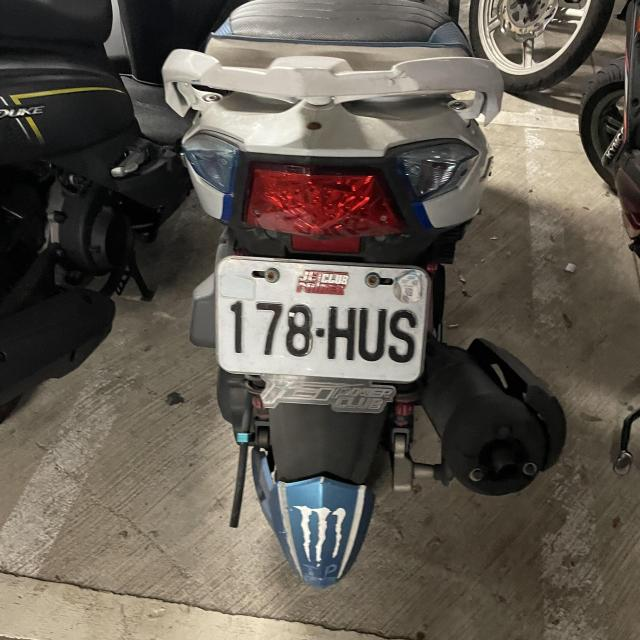W: (212, 255, 432, 387)
